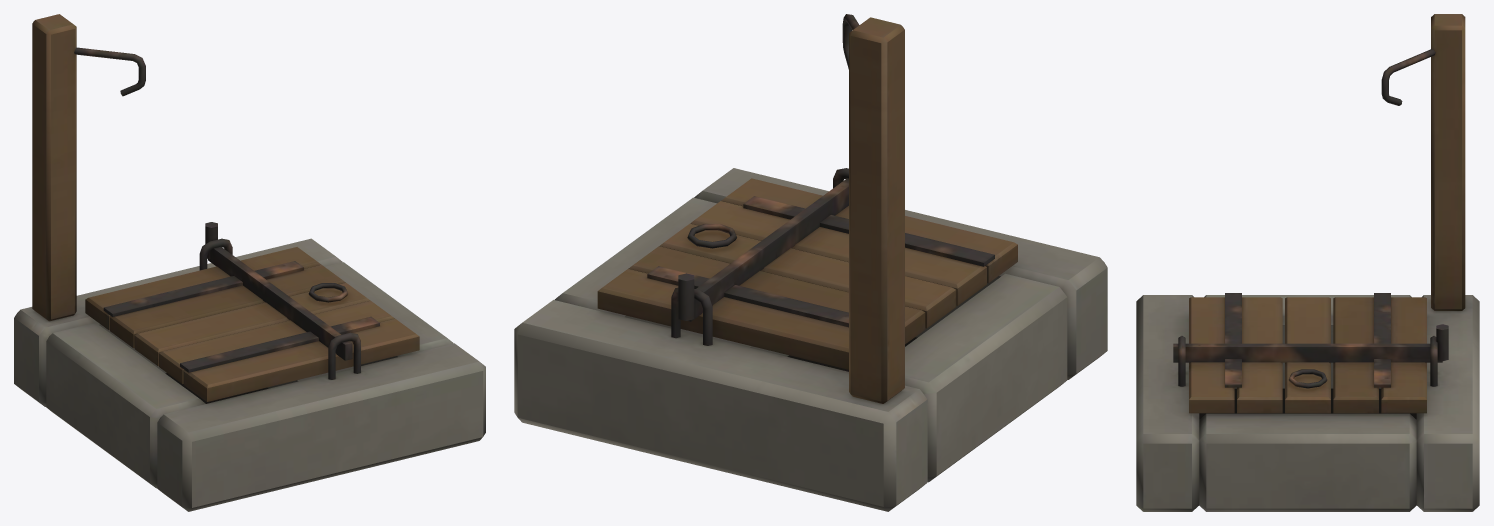
File: hatch.glb
3 renders of one model, left to right at view 1: azimuth 30°, elevation 25°; view 2: azimuth 150°, elevation 25°; view 3: azimuth 270°, elevation 25°, orthographic. The views are drawn at different scales.
Visible parts, largest first — view 1: hatch.001; view 2: hatch.001; view 3: hatch.001.
Part boxes in pixels (x1,y1,x2,y2): hatch.001: (14, 14, 485, 511); hatch.001: (514, 14, 1107, 511); hatch.001: (1136, 14, 1479, 511).
Bounding box in the file's own units: 1.2 × 1.4 × 1.2.
1 material, 1 textured.
